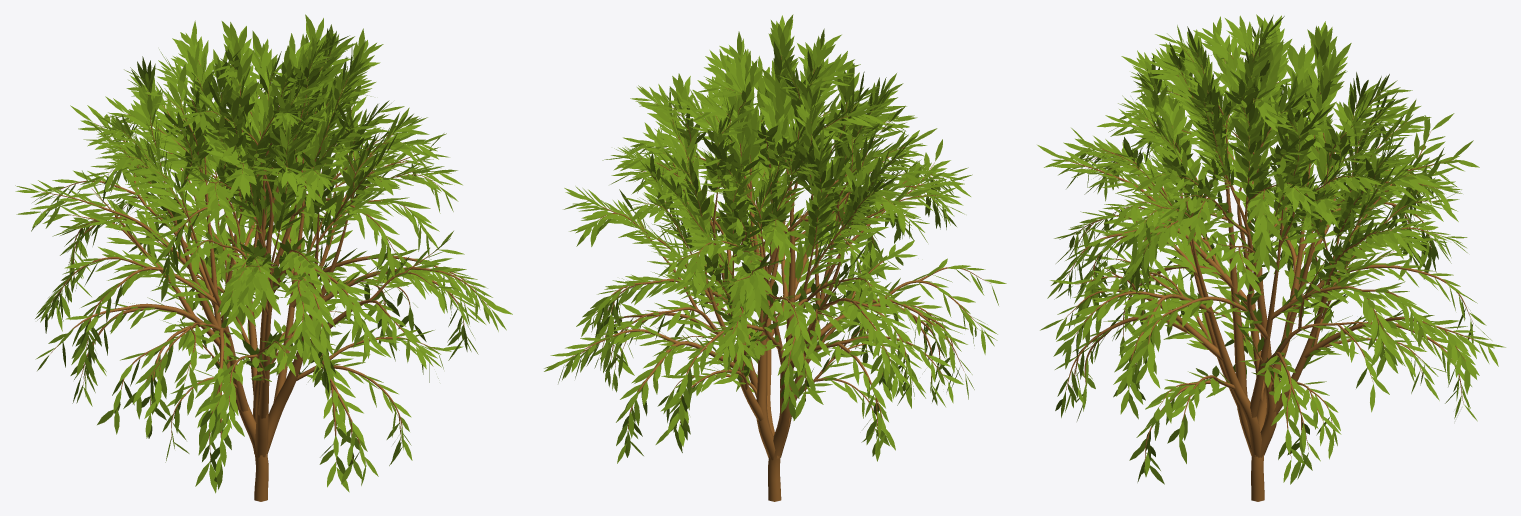
Rendered from tree.gltf.
3 renders of one model, left to right at view 1: azimuth 30°, elevation 25°; view 2: azimuth 150°, elevation 25°; view 3: azimuth 270°, elevation 25°, orthographic. The views are drawn at different scales.
Parts seen in each view (by area): view 1: leaves, tree; view 2: leaves, tree; view 3: leaves, tree.
Boxes of the visible parts, x1=… form: leaves: x1=15, y1=14, x2=512, y2=493; tree: x1=40, y1=52, x2=490, y2=501; leaves: x1=544, y1=14, x2=1006, y2=463; tree: x1=565, y1=55, x2=990, y2=501; leaves: x1=1037, y1=14, x2=1505, y2=484; tree: x1=1063, y1=39, x2=1474, y2=501.
Size of the model in its own units: 5.78 by 6.82 by 6.05.
